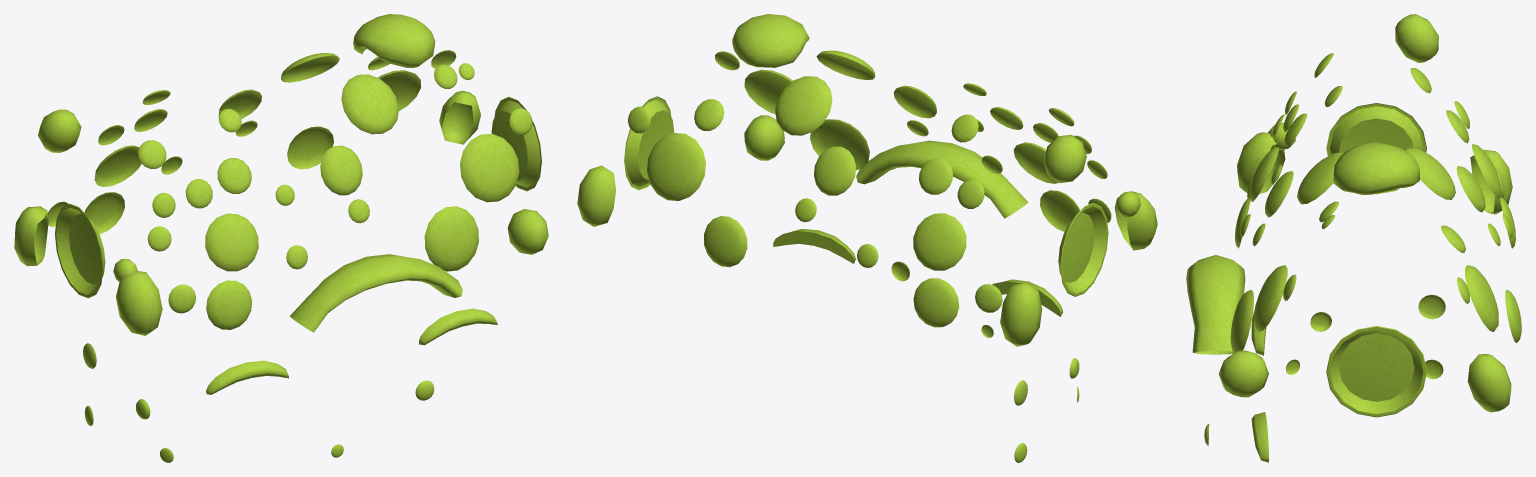
The model's file is fbx_facility_building_02.FBX.
The picture shows the model from 3 angles, left to right: view 1: azimuth 30°, elevation 25°; view 2: azimuth 150°, elevation 25°; view 3: azimuth 270°, elevation 25°; orthographic projection. The views are drawn at different scales.
Parts seen in each view (by area): view 1: facility_building_02; view 2: facility_building_02; view 3: facility_building_02.
Part boxes in pixels (box(x1,y1,x2,y2)): facility_building_02: box(14, 14, 548, 462); facility_building_02: box(577, 14, 1157, 462); facility_building_02: box(1186, 14, 1521, 462).
Size of the model in its own units: 91.53 by 66.57 by 54.29.
